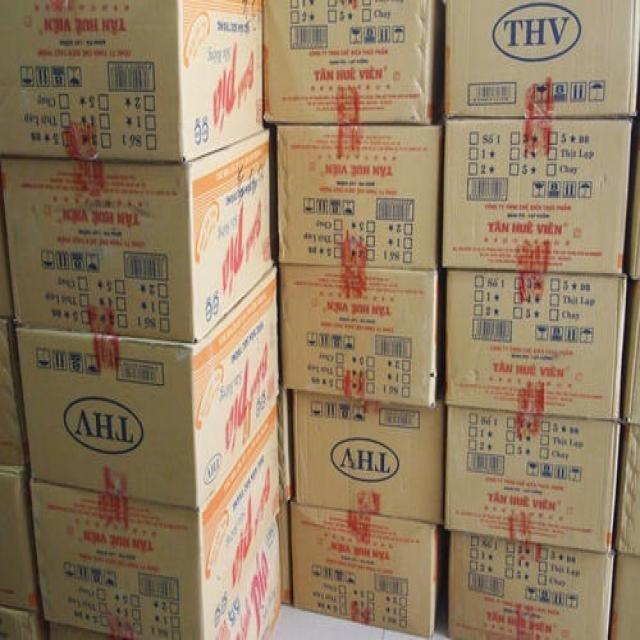box: (16, 262, 281, 509), (1, 123, 279, 341), (27, 402, 282, 638), (0, 2, 265, 160), (442, 117, 632, 277), (444, 264, 628, 421), (446, 407, 621, 554), (277, 121, 445, 267), (278, 264, 439, 412), (261, 0, 444, 124), (444, 1, 638, 117), (290, 501, 449, 638), (292, 389, 449, 524), (446, 527, 614, 638), (0, 466, 42, 610), (0, 318, 30, 472), (612, 416, 639, 556), (618, 275, 639, 427), (0, 155, 18, 319), (609, 548, 639, 638), (623, 116, 639, 276), (273, 387, 294, 496), (277, 494, 295, 605), (42, 616, 121, 638), (0, 604, 44, 638)
